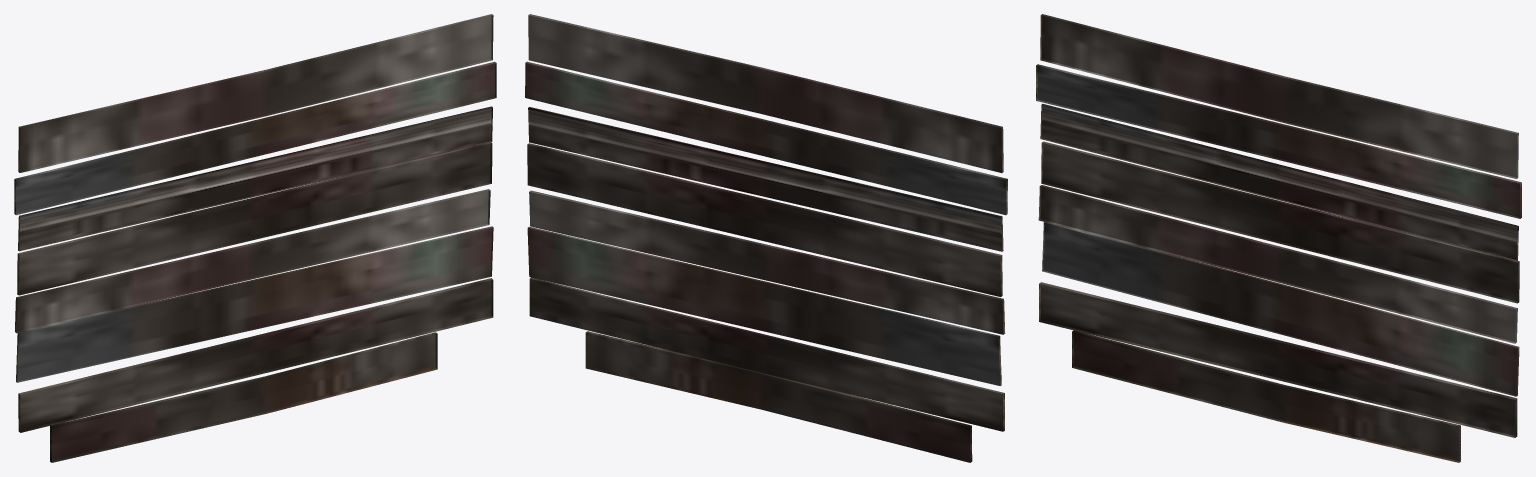
The model's file is WoodFlank.fbx.
3 renders of one model, left to right at view 1: azimuth 30°, elevation 25°; view 2: azimuth 150°, elevation 25°; view 3: azimuth 330°, elevation 25°, orthographic.
Visible parts, largest first — view 1: Component1; view 2: Component1; view 3: Component1.
Boxes of the visible parts, left/top/right/bottom form: Component1: left=14, top=14, right=496, bottom=462; Component1: left=525, top=14, right=1007, bottom=462; Component1: left=1036, top=14, right=1521, bottom=462.
Bounding box in the file's own units: 648 × 441 × 15.91.
